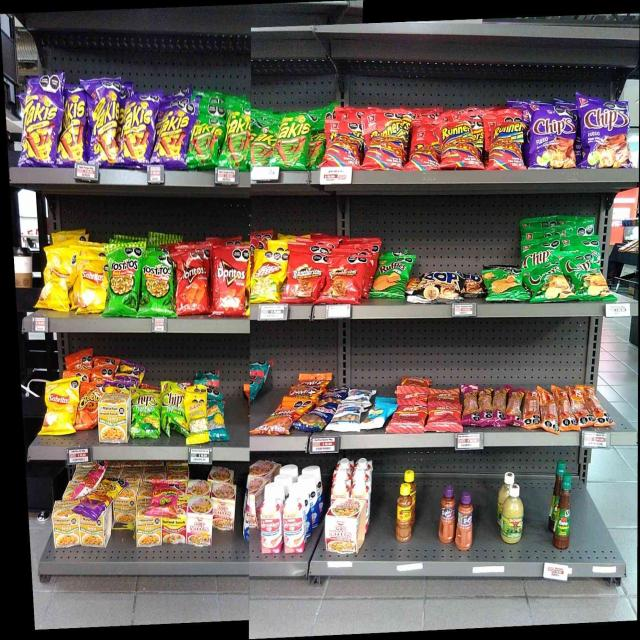bitzAlmendras: (364, 407, 388, 429)
bitzEnchilado90: (391, 407, 424, 434), (428, 404, 460, 430)
bitzEnchilado95: (588, 386, 604, 424), (542, 389, 556, 427), (558, 388, 571, 428), (525, 391, 539, 428), (574, 386, 585, 425)
bitzHabanero: (507, 389, 521, 428), (463, 385, 477, 423), (479, 387, 492, 426), (493, 388, 505, 426)
bokadosCacahuates: (304, 405, 334, 428)
botaneraChilito: (394, 483, 412, 543)
cheetosFlaminHot: (93, 481, 117, 508)
cheetosOriginal: (79, 382, 98, 429)
chipsFuego: (580, 97, 629, 167), (529, 102, 574, 168)
chipsJalapeno: (571, 249, 608, 299), (528, 267, 568, 299), (522, 237, 558, 265)
chipsPapatinas: (132, 388, 159, 439), (162, 381, 185, 433)
churrumais: (153, 482, 176, 516)
delPrimoSalsa: (501, 482, 524, 544)
doritosNacho: (214, 247, 246, 316), (177, 252, 208, 313)
fritosLimon: (252, 250, 282, 300)
leoCacahuates: (336, 403, 360, 432)
leoMix: (266, 399, 302, 435)
maruchanPollo: (100, 394, 128, 444), (53, 503, 78, 547), (79, 516, 108, 547), (137, 517, 161, 547)
maruchanRes: (162, 516, 185, 544)
nestleCarnation: (260, 497, 281, 555), (283, 498, 304, 554)
nissinCamaron: (188, 496, 213, 546)
nissinRes: (324, 498, 368, 556), (214, 483, 236, 532)
popKarameladas: (415, 272, 460, 303)
rancheritos: (328, 254, 368, 302), (288, 252, 322, 300)
rufflesQueso: (376, 256, 408, 299), (486, 270, 525, 301)
runners: (364, 112, 403, 168), (490, 118, 526, 170), (442, 118, 474, 168), (326, 127, 360, 168), (411, 129, 438, 170)
sabritasOriginal: (42, 250, 75, 309), (44, 381, 74, 434), (78, 256, 105, 310)
salsaBufalo: (552, 472, 571, 551)
semillasCalabaza: (187, 397, 206, 443)
semillasGirasol: (208, 398, 227, 440)
tajinDulce: (455, 490, 473, 551), (436, 485, 454, 543)
takisFuego: (22, 77, 56, 166), (87, 80, 118, 164), (122, 94, 151, 168), (157, 103, 186, 168), (60, 87, 84, 165)
takisOriginal: (277, 114, 307, 168), (189, 115, 219, 168), (224, 112, 250, 171), (252, 127, 274, 166)
tostitos: (108, 246, 138, 316), (142, 252, 173, 317)
